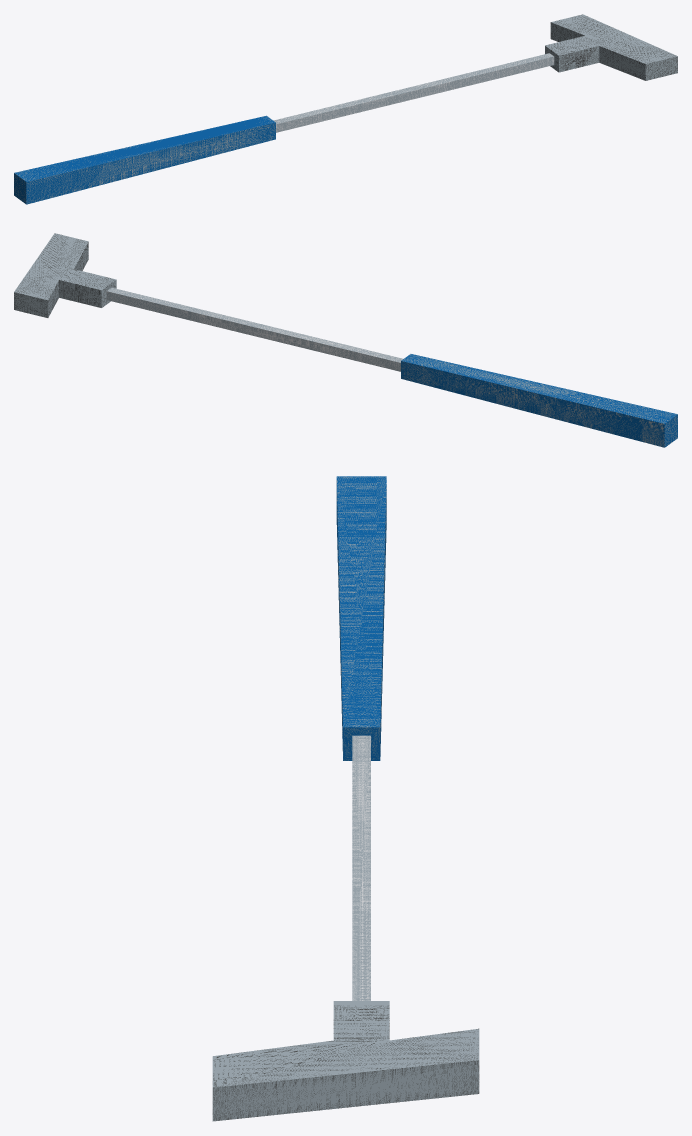
Rendered from Club_blue_01.obj.
3 views of the same model, one above another, from view 1: azimuth 30°, elevation 25°; view 2: azimuth 150°, elevation 25°; view 3: azimuth 270°, elevation 25° (orthographic). The views are drawn at different scales.
Parts seen in each view (by area): view 1: Mesh1 Club_blue Model; view 2: Mesh1 Club_blue Model; view 3: Mesh1 Club_blue Model.
Boxes of the visible parts, <box> form: Mesh1 Club_blue Model: <box>14,14,677,204</box>; Mesh1 Club_blue Model: <box>14,233,677,447</box>; Mesh1 Club_blue Model: <box>212,476,479,1121</box>.
Bounding box in the file's own units: 2.75 × 0.0959 × 0.5124.
